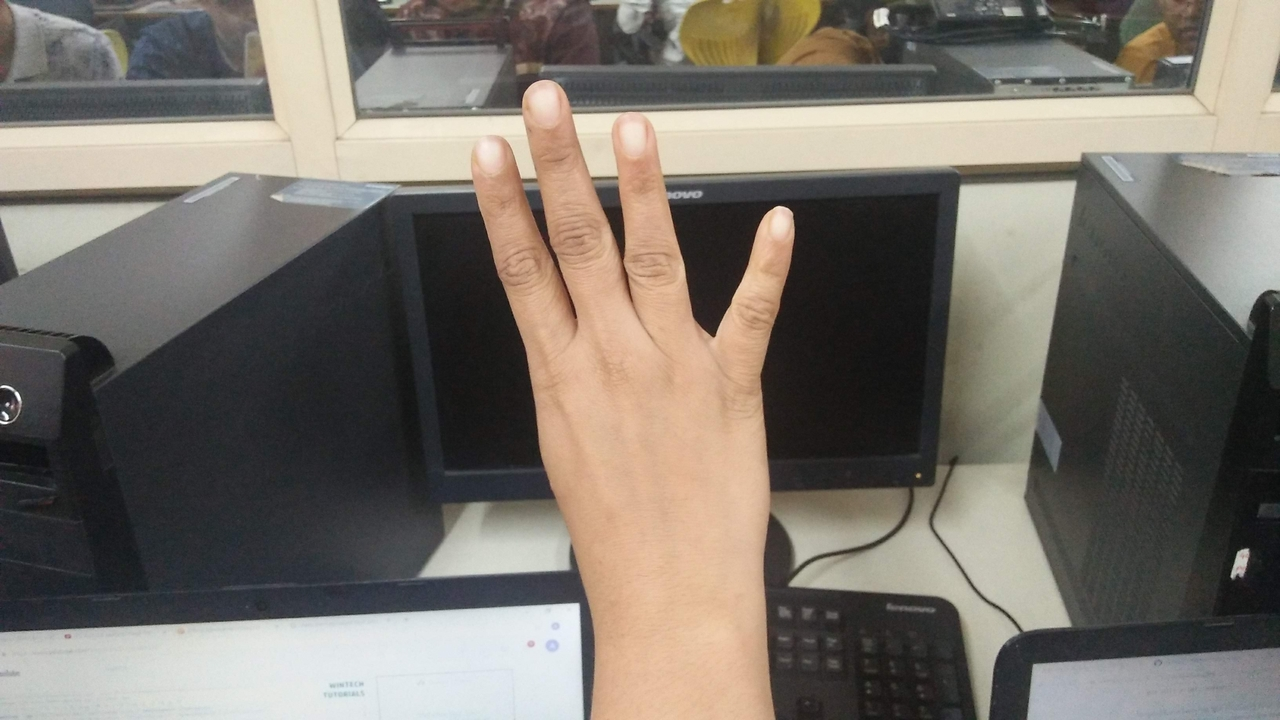fingertip: (514, 72, 576, 132), (746, 194, 808, 254), (604, 102, 666, 156), (462, 124, 516, 184)
